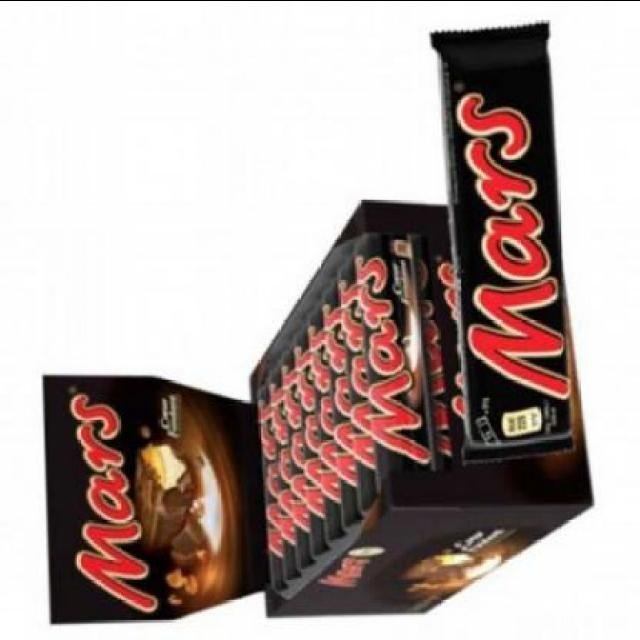Chocolate bar: (434, 12, 574, 464)
